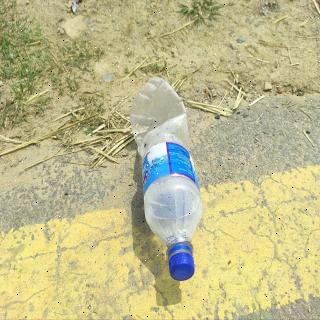Plastic-bottle: (128, 74, 206, 285)
